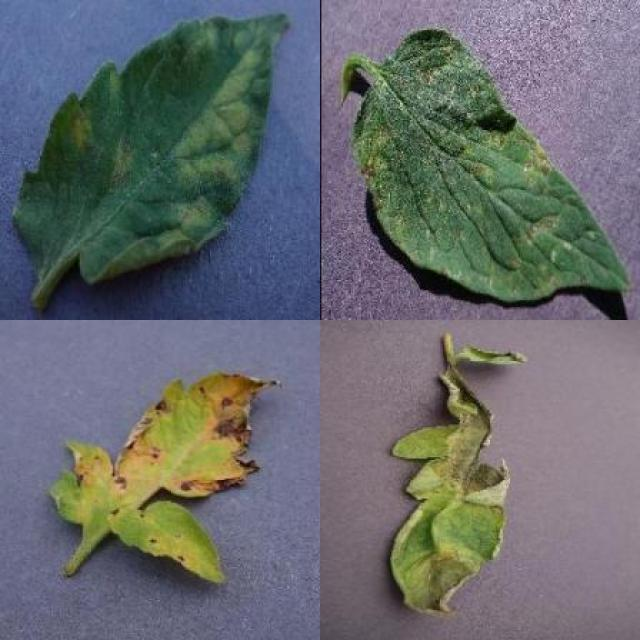Late Blight: (386, 367, 509, 614), (464, 340, 529, 371)
Leaf Mold: (15, 10, 292, 284)
Septoria: (354, 28, 632, 302), (52, 372, 282, 588)
